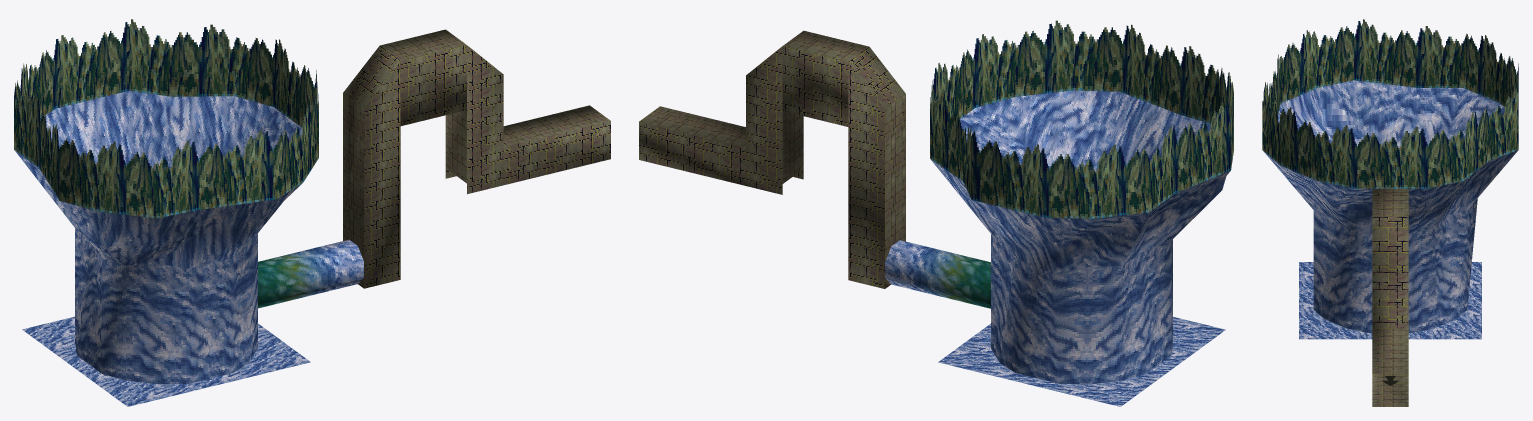
Rendered from DireDireDocksArea1.dae.
3 renders of one model, left to right at view 1: azimuth 30°, elevation 25°; view 2: azimuth 150°, elevation 25°; view 3: azimuth 270°, elevation 25°, orthographic. The views are drawn at different scales.
Parts seen in each view (by area): view 1: _000_geometry, _003_geometry, _001_geometry, _002_geometry; view 2: _000_geometry, _003_geometry, _001_geometry, _002_geometry; view 3: _000_geometry, _003_geometry, _001_geometry.
Part boxes in pixels (x1,y1,x2,y2): _000_geometry: (14, 90, 310, 406); _003_geometry: (14, 19, 318, 218); _001_geometry: (343, 29, 610, 288); _002_geometry: (258, 239, 363, 308); _000_geometry: (930, 90, 1230, 406); _003_geometry: (930, 20, 1233, 218); _001_geometry: (639, 30, 905, 288); _002_geometry: (885, 240, 990, 308); _000_geometry: (1263, 80, 1518, 339); _003_geometry: (1262, 19, 1518, 188); _001_geometry: (1372, 189, 1408, 406).
Bounding box in the file's own units: 15692 × 7167 × 7167.
